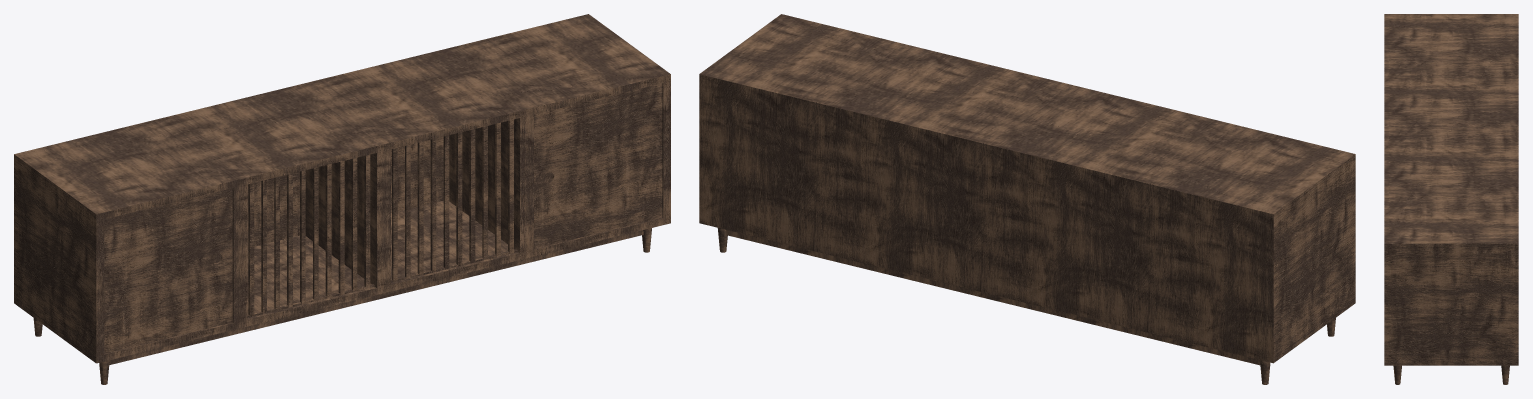
The model's file is WoodenCabinetFBX.fbx.
3 renders of one model, left to right at view 1: azimuth 30°, elevation 25°; view 2: azimuth 150°, elevation 25°; view 3: azimuth 270°, elevation 25°, orthographic. The views are drawn at different scales.
Parts seen in each view (by area): view 1: Cabinet, Legs; view 2: Cabinet, Legs; view 3: Cabinet, Legs.
Boxes of the visible parts, left/top/right/bottom form: Cabinet: left=14, top=14, right=670, bottom=363; Legs: left=33, top=228, right=651, bottom=384; Cabinet: left=699, top=14, right=1355, bottom=363; Legs: left=717, top=228, right=1335, bottom=384; Cabinet: left=1384, top=14, right=1518, bottom=365; Legs: left=1393, top=365, right=1509, bottom=384.
Bounding box in the file's own units: 1586 × 473 × 393.
2 materials, 2 textured.
